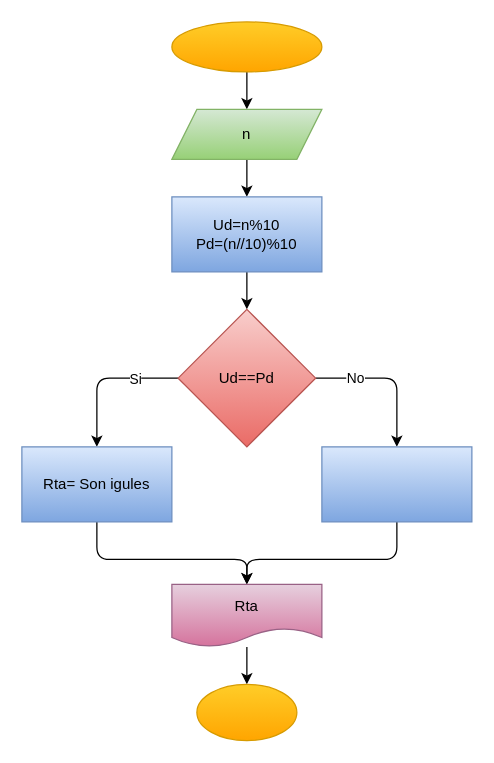
This 494x763 diagram has some shape labels left out. Each missing label, with the centre of its shape:
"Fin" belongs at [246,712].
"inicio" belongs at [246,46].
"Rta= No son iguales" belongs at [396,484].
